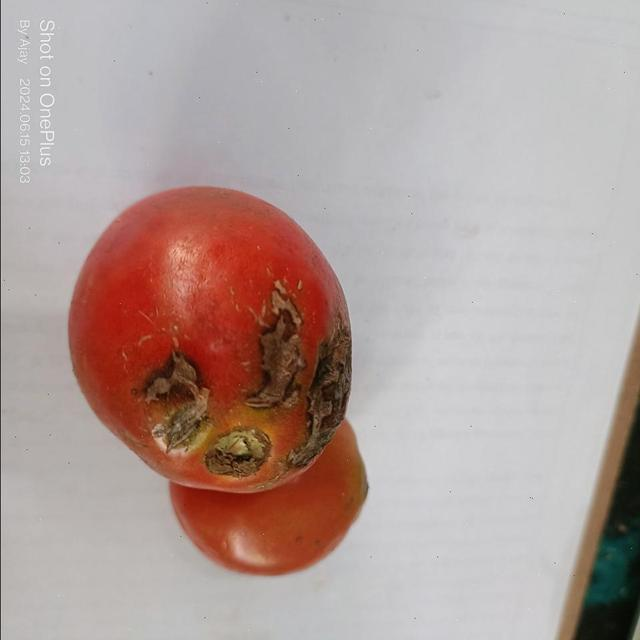Bacterial Spot Fruit: (26, 35, 221, 302)
